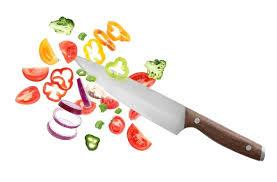Knife: (74, 54, 265, 161)
